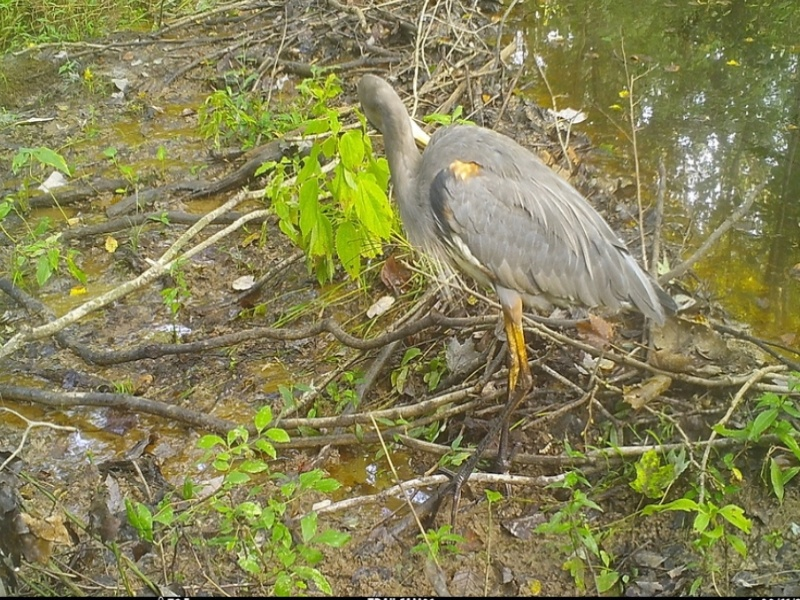heron: (348, 66, 670, 541)
